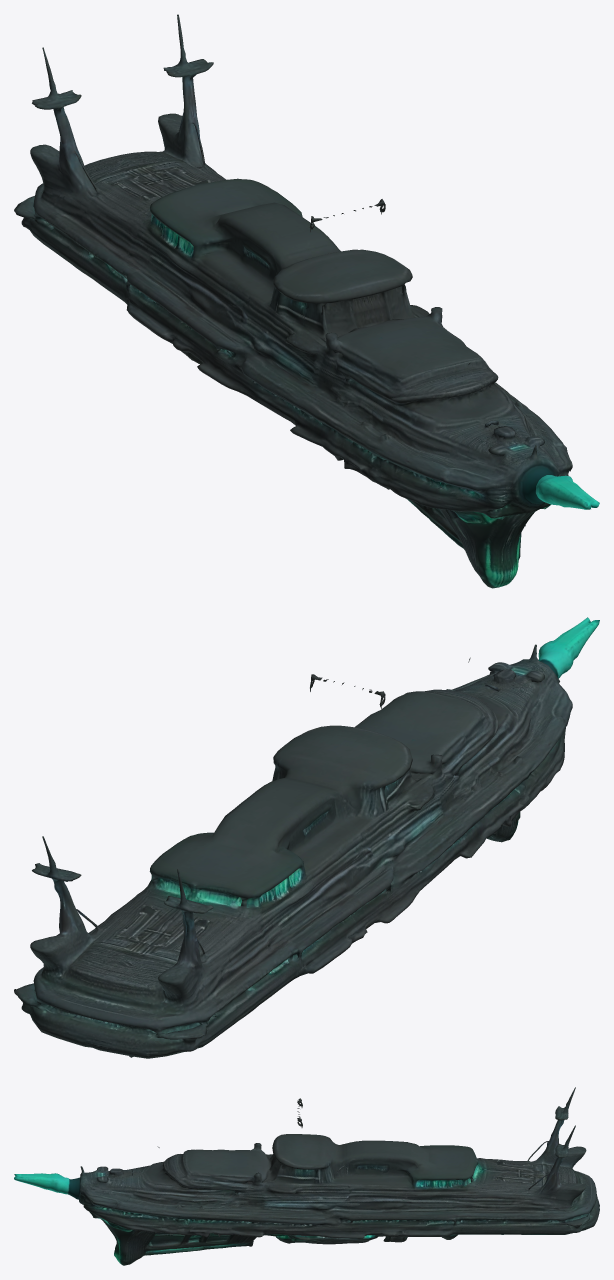
The model's file is arkadia-navire.glb.
The picture shows the model from 3 angles, top to bottom: view 1: azimuth 30°, elevation 25°; view 2: azimuth 150°, elevation 25°; view 3: azimuth 270°, elevation 25°; orthographic projection. The views are drawn at different scales.
Visible parts, largest first — view 1: model; view 2: model; view 3: model.
Boxes of the visible parts, left/top/right/bottom form: model: left=14, top=14, right=599, bottom=588; model: left=14, top=617, right=599, bottom=1058; model: left=14, top=1087, right=599, bottom=1265.
Bounding box in the file's own units: 0.4135 × 0.5572 × 1.87.
1 material, 1 textured.
